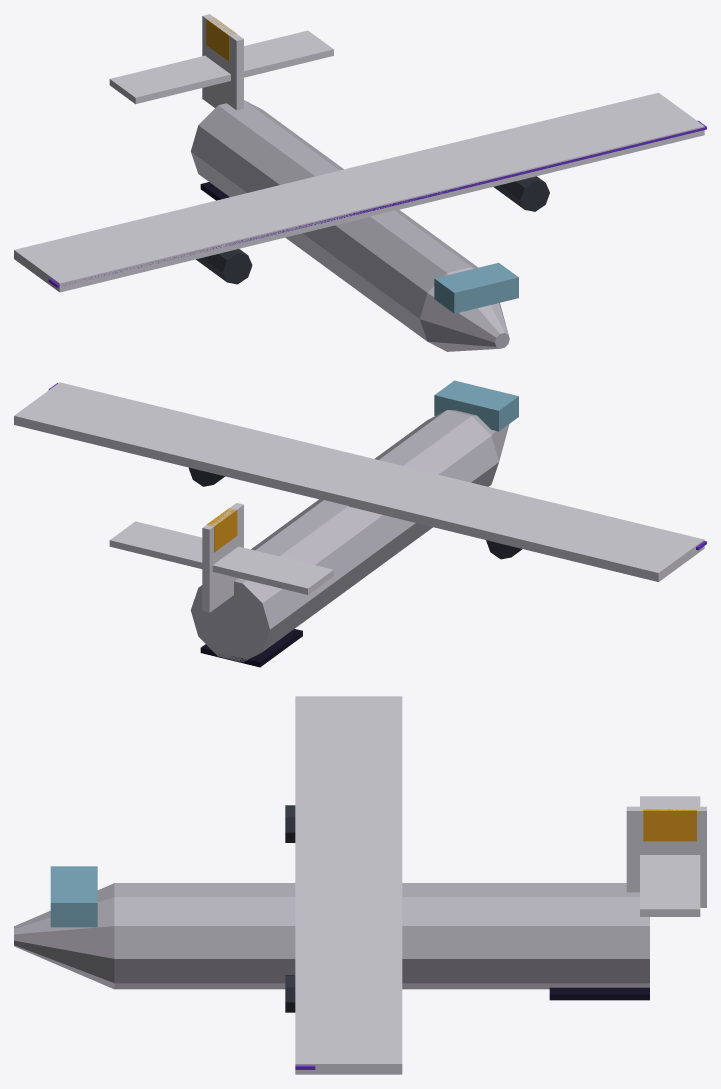
The model's file is cargo_glider.glb.
The picture shows the model from 3 angles, top to bottom: view 1: azimuth 30°, elevation 25°; view 2: azimuth 150°, elevation 25°; view 3: azimuth 270°, elevation 25°; orthographic projection. The views are drawn at different scales.
Parts seen in each view (by area): view 1: model; view 2: model; view 3: model.
Boxes of the visible parts, x1,y1,x2,y2 form: model: (14, 14, 706, 351); model: (14, 380, 706, 667); model: (14, 696, 706, 1074).
Bounding box in the file's own units: 26.2 × 5.75 × 20.7.
